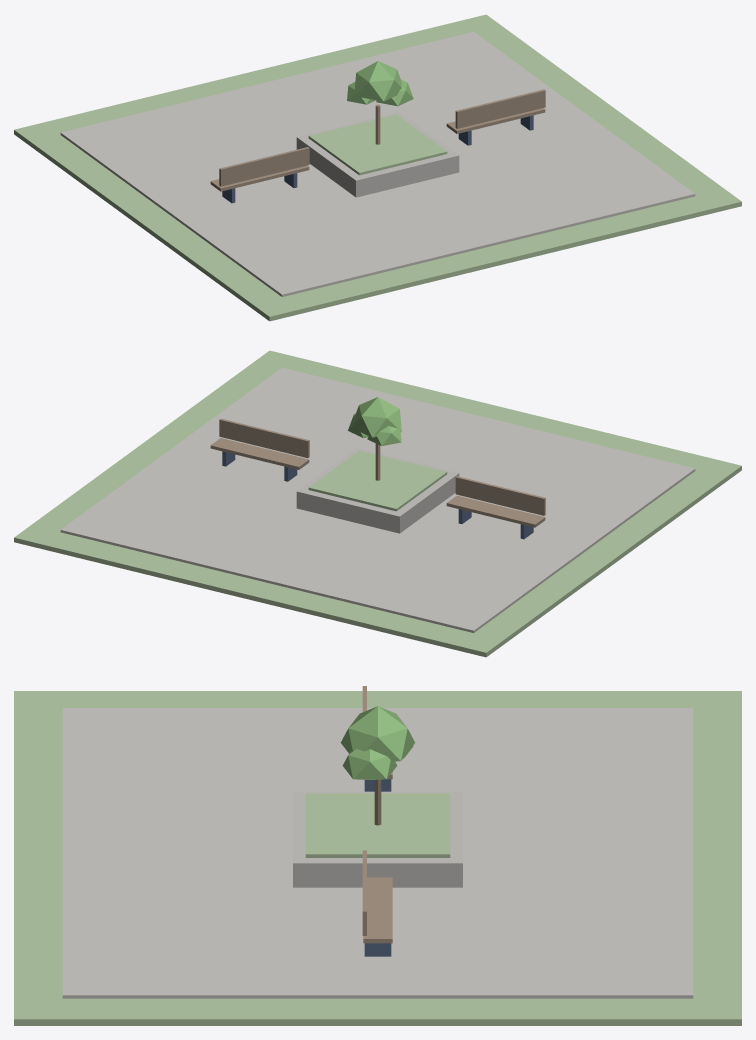
File: 16_parks_greenery-06.glb
3 views of the same model, one above another, from view 1: azimuth 30°, elevation 25°; view 2: azimuth 150°, elevation 25°; view 3: azimuth 270°, elevation 25° (orthographic). The views are drawn at different scales.
Size of the model in its own units: 16 by 3.54 by 15.
